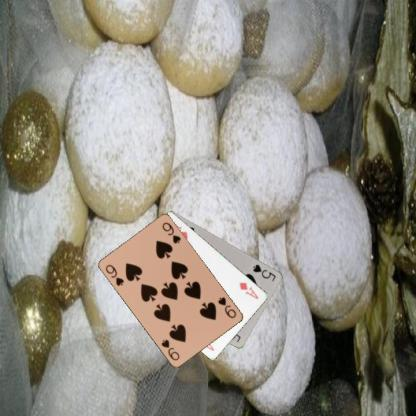5s: (251, 262, 277, 282)
9s: (216, 294, 238, 320), (103, 262, 125, 287)
Ad: (237, 280, 260, 300)
